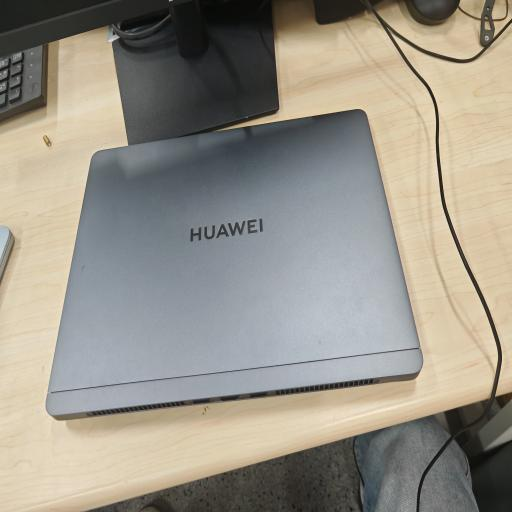laptop: (46, 110, 423, 419)
mouse: (406, 0, 460, 25)
